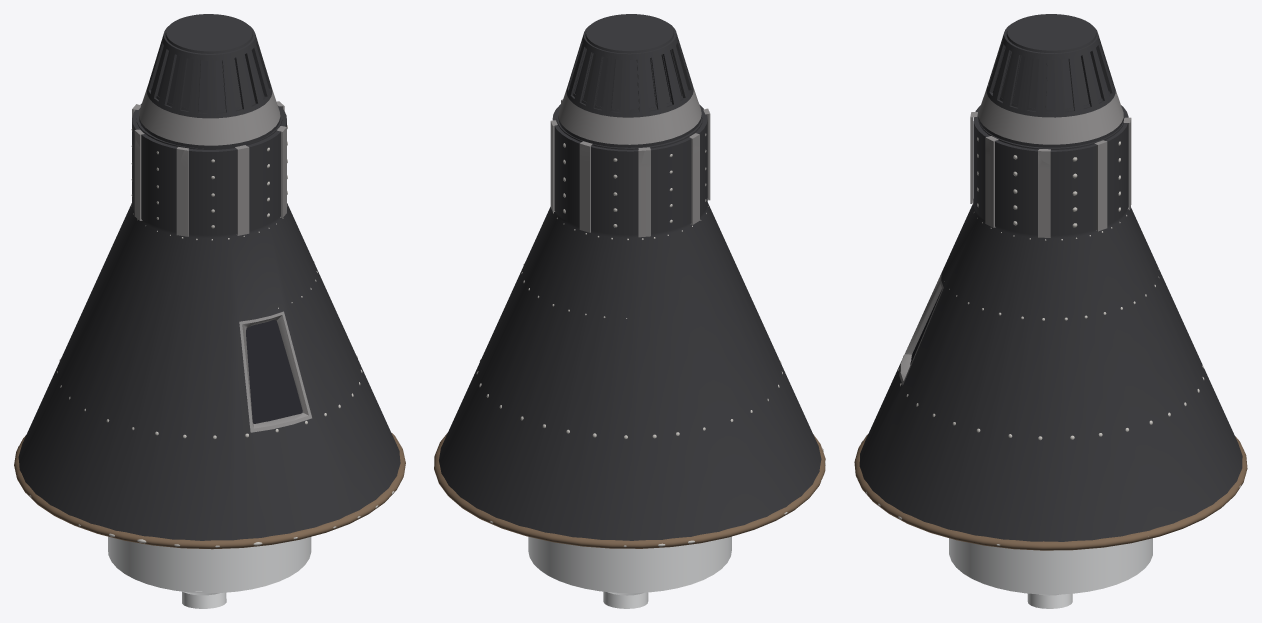
The model's file is mercury-friendship-7.glb.
The picture shows the model from 3 angles, left to right: view 1: azimuth 30°, elevation 25°; view 2: azimuth 150°, elevation 25°; view 3: azimuth 270°, elevation 25°; orthographic projection.
Visible parts, largest first — view 1: group59 g1, group59215, group59 gr, group59214, group59 10; view 2: group59 g1, group59215, group59214, group59 10; view 3: group59 g1, group59215, group59214, group59 10.
Boxes of the visible parts, x1,y1,x2,y2 form: group59 g1: [18, 14, 400, 608]; group59215: [132, 89, 311, 432]; group59 gr: [246, 319, 302, 423]; group59214: [14, 433, 405, 549]; group59 10: [18, 125, 394, 547]; group59 g1: [439, 14, 821, 608]; group59215: [550, 87, 710, 237]; group59214: [434, 433, 825, 548]; group59 10: [476, 133, 825, 547]; group59 g1: [859, 14, 1242, 608]; group59215: [899, 89, 1131, 385]; group59214: [854, 434, 1247, 550]; group59 10: [855, 137, 1240, 545].
Bounding box in the file's own units: 1.89 × 2.91 × 1.89.
